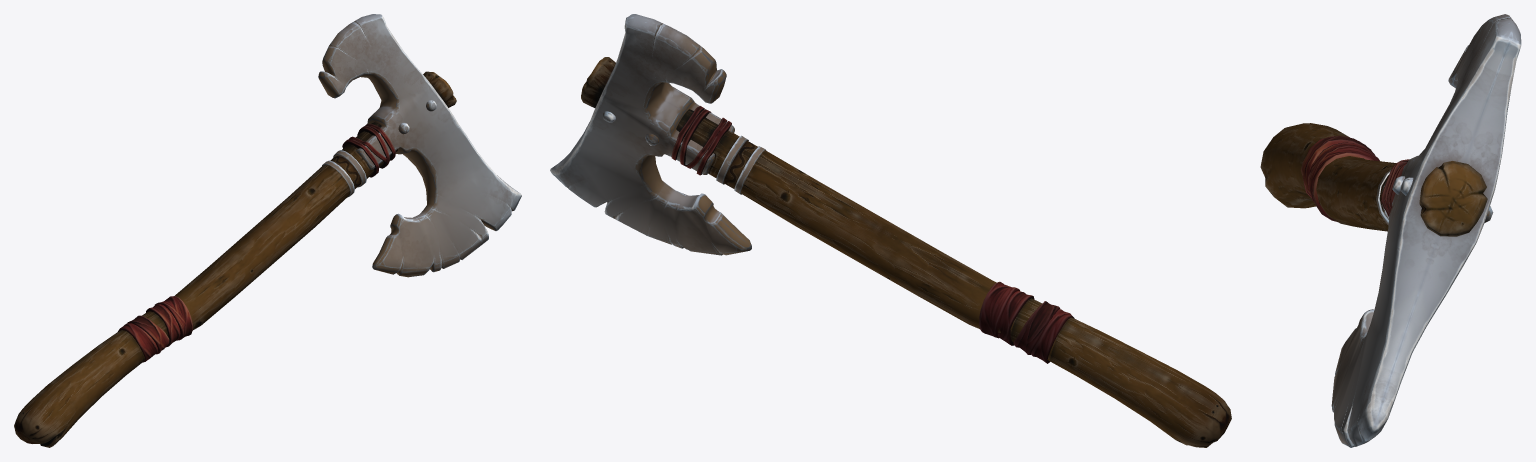
3 views of the same model, side by side, from view 1: azimuth 30°, elevation 25°; view 2: azimuth 150°, elevation 25°; view 3: azimuth 270°, elevation 25° (orthographic). The views are drawn at different scales.
Parts seen in each view (by area): view 1: Axe; view 2: Axe; view 3: Axe.
Boxes of the visible parts, bbox=[...] form: Axe: bbox=[14, 14, 521, 447]; Axe: bbox=[550, 14, 1231, 447]; Axe: bbox=[1260, 14, 1521, 447].
Size of the model in its own units: 0.9448 by 0.5053 by 0.2364.
1 material, 1 textured.
